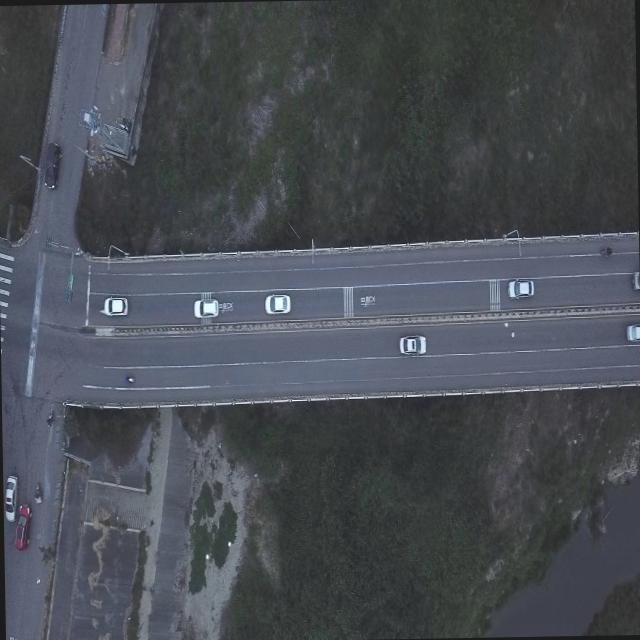bike: (34, 480, 42, 504), (598, 245, 614, 256), (44, 410, 54, 426), (126, 373, 136, 382)
car: (44, 140, 61, 188), (2, 472, 18, 520), (14, 501, 30, 549), (192, 294, 220, 319), (398, 330, 427, 354), (506, 276, 534, 300), (102, 294, 128, 318), (264, 292, 290, 316), (626, 320, 640, 342), (630, 268, 640, 293)
